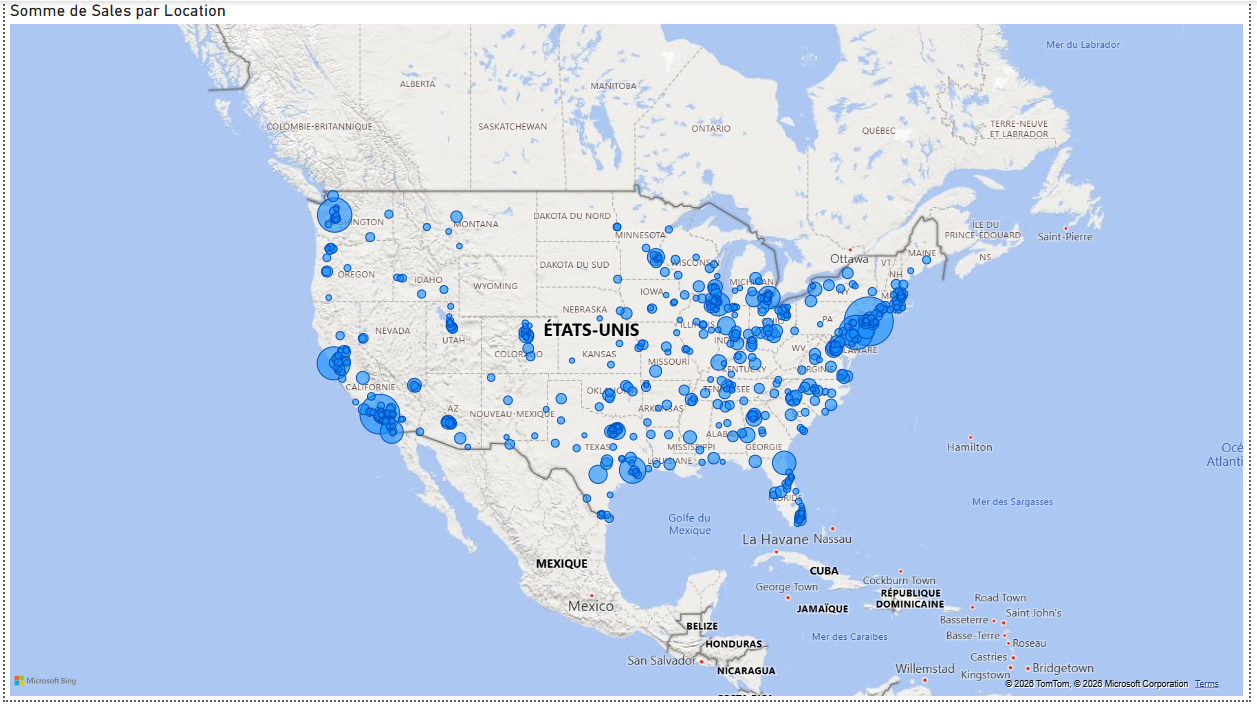

Layout of this report page (visuals, bound fields, positions):
{"tool":"powerbi","page":{"name":"Page 3","canvas":[1280,720],"ordinal":2},"visuals":[{"type":"map","fields":{"Size":["Sum(cleaned_Superstore.Sales)"],"Category":["cleaned_Superstore.Location"]},"box":[0,0,1279.6,719.8],"z":0}]}

Visuals, with their boxes in screenshot pixels (x1, y1, x2, y2), scaled from the page's 1280x720 canvas onto the 1257x707 screenshot:
map - Sum(cleaned_Superstore.Sales) x cleaned_Superstore.Location: (left=0, top=0, right=1256, bottom=706)
